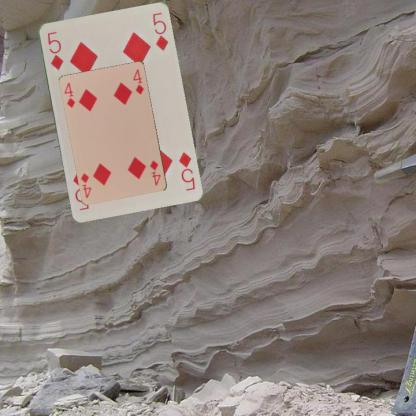4d: (62, 80, 77, 110), (148, 158, 162, 187)
5d: (44, 28, 64, 71), (176, 149, 196, 192)
